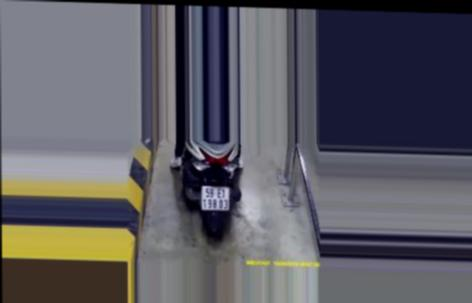License_Plate: (196, 182, 234, 214)
